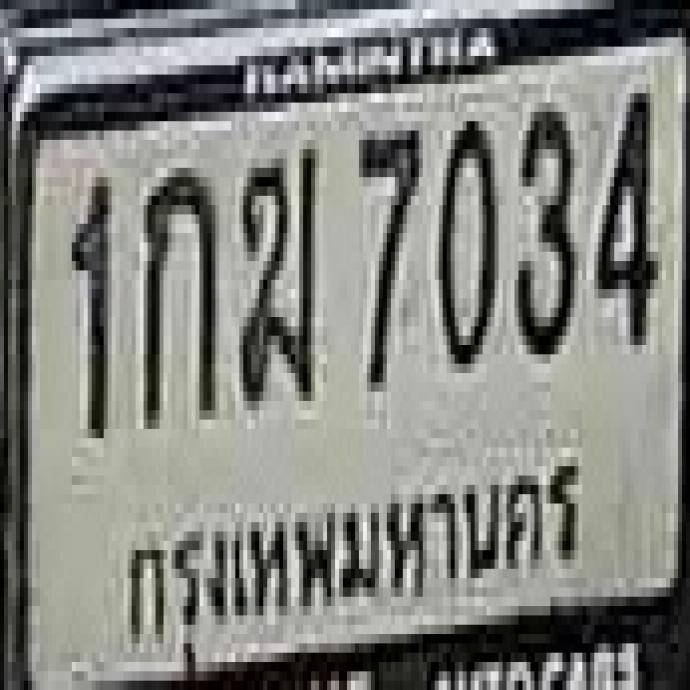0: (434, 114, 492, 364)
1: (67, 168, 106, 428)
3: (512, 98, 571, 348)
4: (592, 83, 653, 337)
7: (355, 119, 416, 382)
A01: (141, 159, 214, 418)
A06: (237, 141, 314, 397)
BKK: (114, 445, 590, 639)
